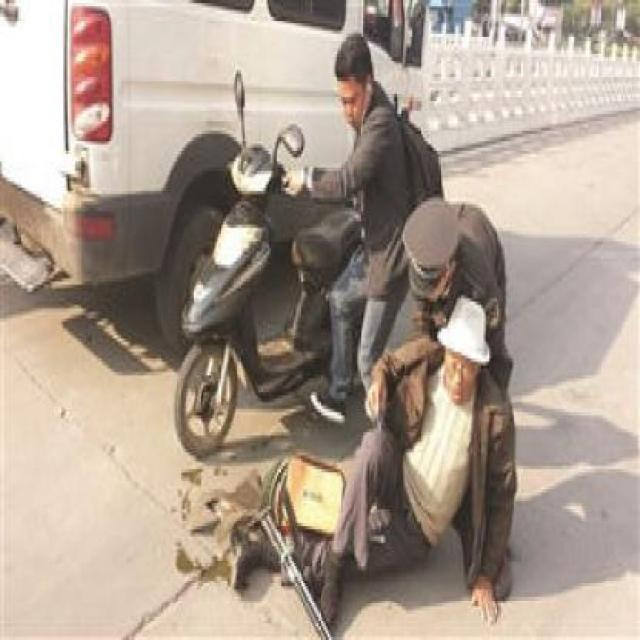fall: (164, 275, 528, 627)
